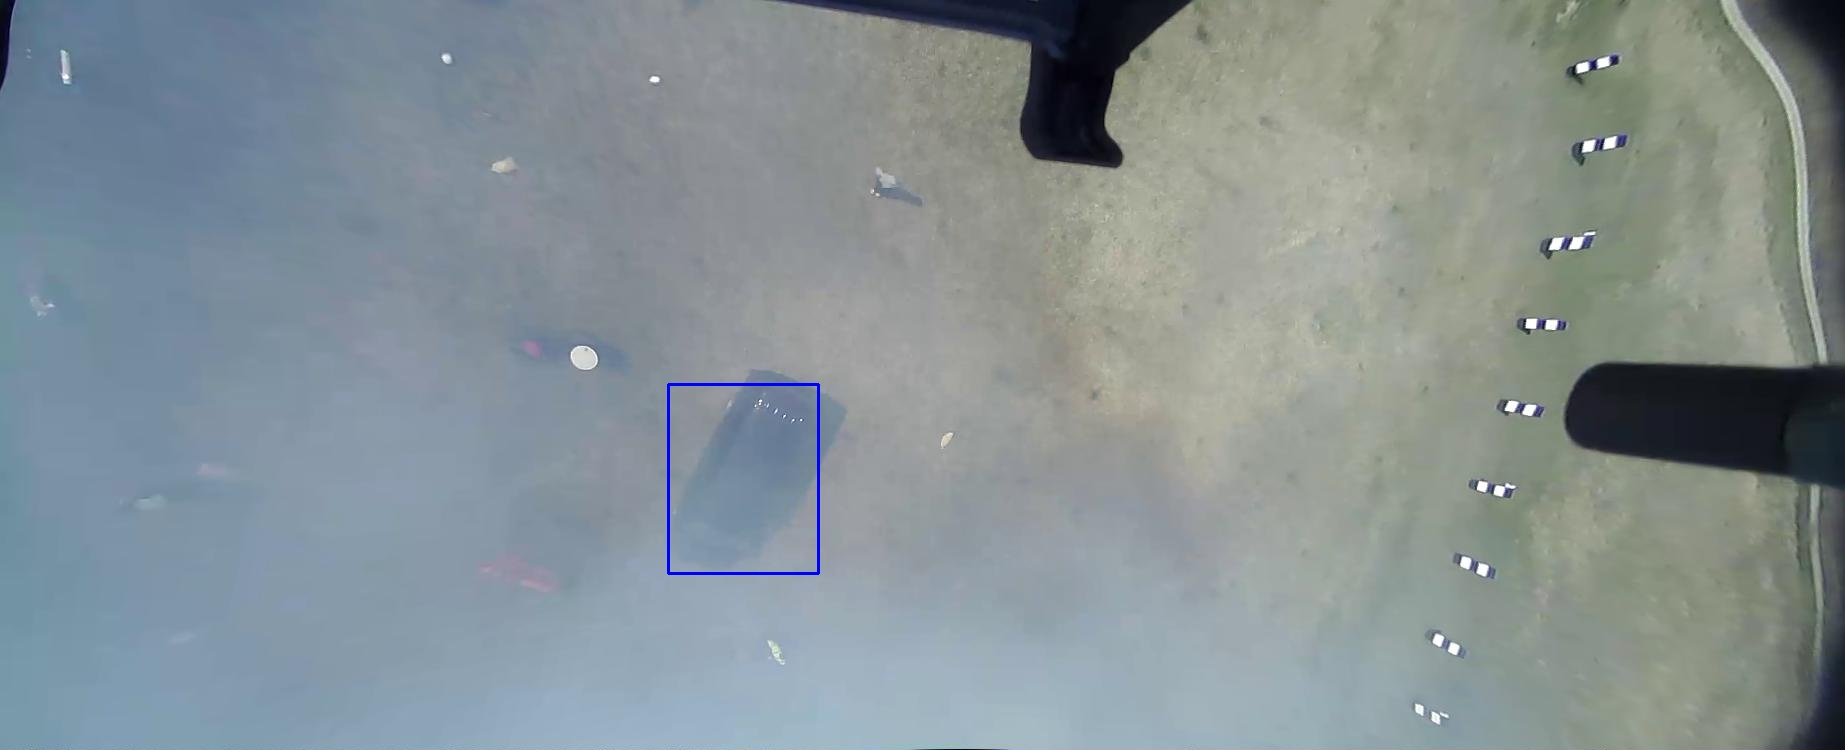vehicle: (384, 668, 573, 750)
